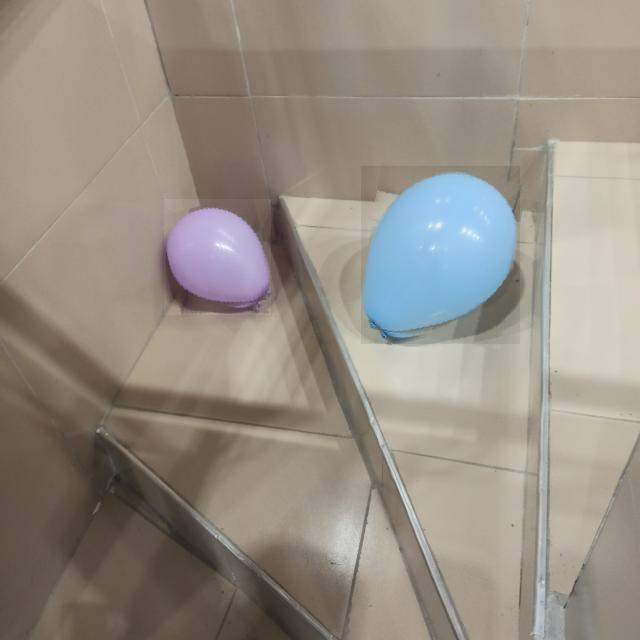balloon: (361, 166, 520, 344), (164, 199, 271, 315)
